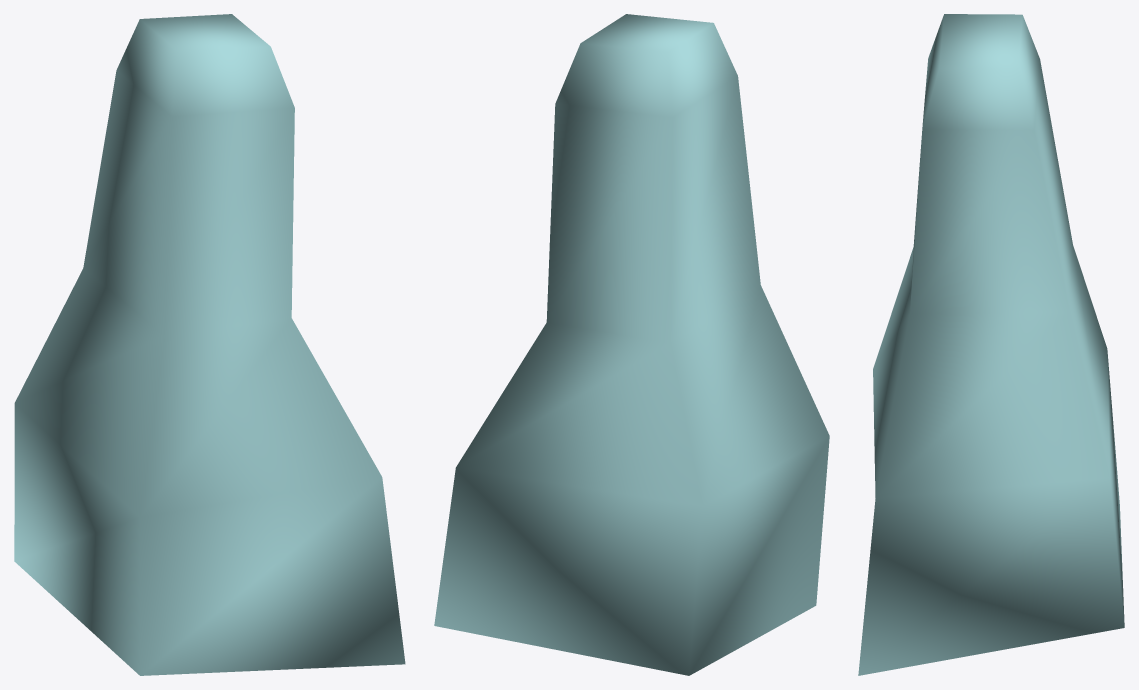
The model's file is Skelly_f_index.03.L.fbx.
3 renders of one model, left to right at view 1: azimuth 30°, elevation 25°; view 2: azimuth 150°, elevation 25°; view 3: azimuth 270°, elevation 25°, orthographic. The views are drawn at different scales.
Parts seen in each view (by area): view 1: Skelly_f_index.03.L; view 2: Skelly_f_index.03.L; view 3: Skelly_f_index.03.L.
Boxes of the visible parts, bbox=[...] form: Skelly_f_index.03.L: bbox=[14, 14, 405, 675]; Skelly_f_index.03.L: bbox=[434, 14, 829, 675]; Skelly_f_index.03.L: bbox=[858, 14, 1124, 675].
Bounding box in the file's own units: 1.14 × 2.63 × 1.09.
